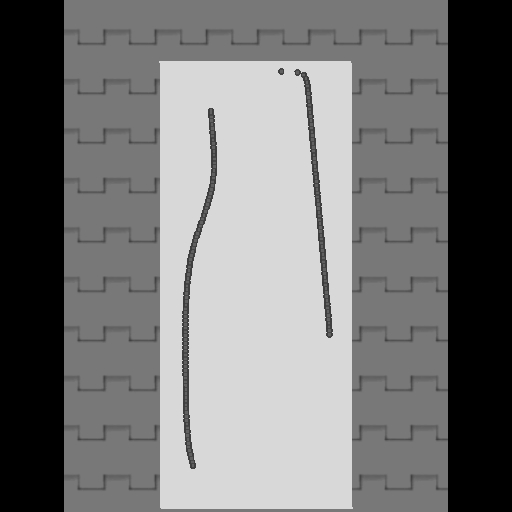Defect: (194, 336, 335, 496)
